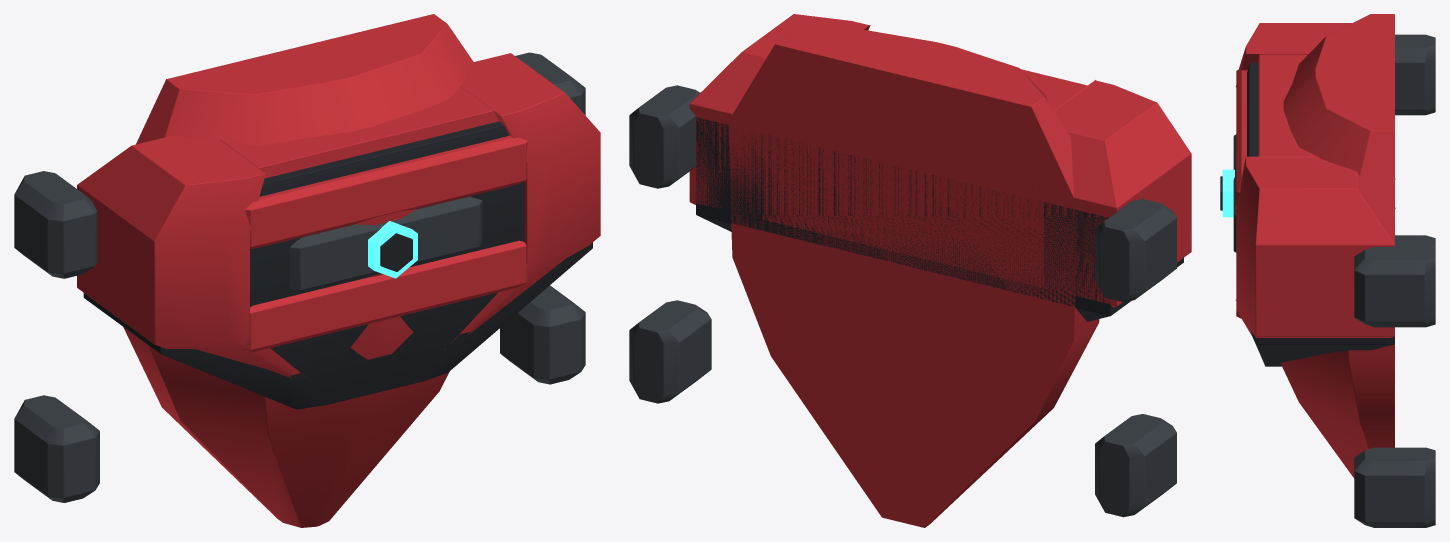
The model's file is UpperArmBack_Set10_Aegis.fbx.
The picture shows the model from 3 angles, left to right: view 1: azimuth 30°, elevation 25°; view 2: azimuth 150°, elevation 25°; view 3: azimuth 270°, elevation 25°; orthographic projection. The views are drawn at different scales.
Parts seen in each view (by area): view 1: UpperArmBack_Set10_Aegis; view 2: UpperArmBack_Set10_Aegis; view 3: UpperArmBack_Set10_Aegis.
Boxes of the visible parts, box(x1,y1,x2,y2) form: UpperArmBack_Set10_Aegis: box(14, 14, 600, 527); UpperArmBack_Set10_Aegis: box(629, 14, 1191, 527); UpperArmBack_Set10_Aegis: box(1220, 14, 1435, 527).
Size of the model in its own units: 0.41 by 0.34 by 0.1586.
